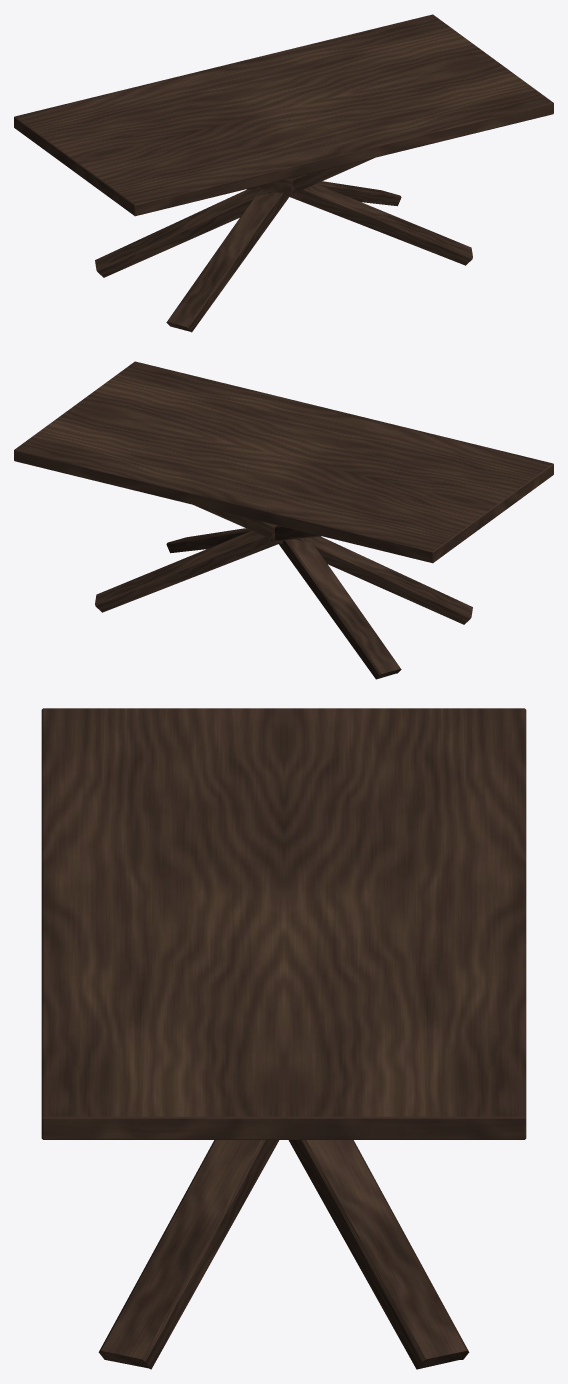
Rendered from rectangular-walnut.glb.
The picture shows the model from 3 angles, top to bottom: view 1: azimuth 30°, elevation 25°; view 2: azimuth 150°, elevation 25°; view 3: azimuth 270°, elevation 25°; orthographic projection. The views are drawn at different scales.
Parts seen in each view (by area): view 1: Top_target, Base_target; view 2: Top_target, Base_target; view 3: Top_target, Base_target.
Boxes of the visible parts, bbox=[...] form: Top_target: bbox=[14, 14, 553, 216]; Base_target: bbox=[95, 158, 472, 332]; Top_target: bbox=[14, 361, 553, 563]; Base_target: bbox=[95, 505, 472, 679]; Top_target: bbox=[41, 708, 526, 1139]; Base_target: bbox=[98, 1140, 469, 1369].
Size of the model in its own units: 2.13 by 0.762 by 1.07.
2 materials, 2 textured.
